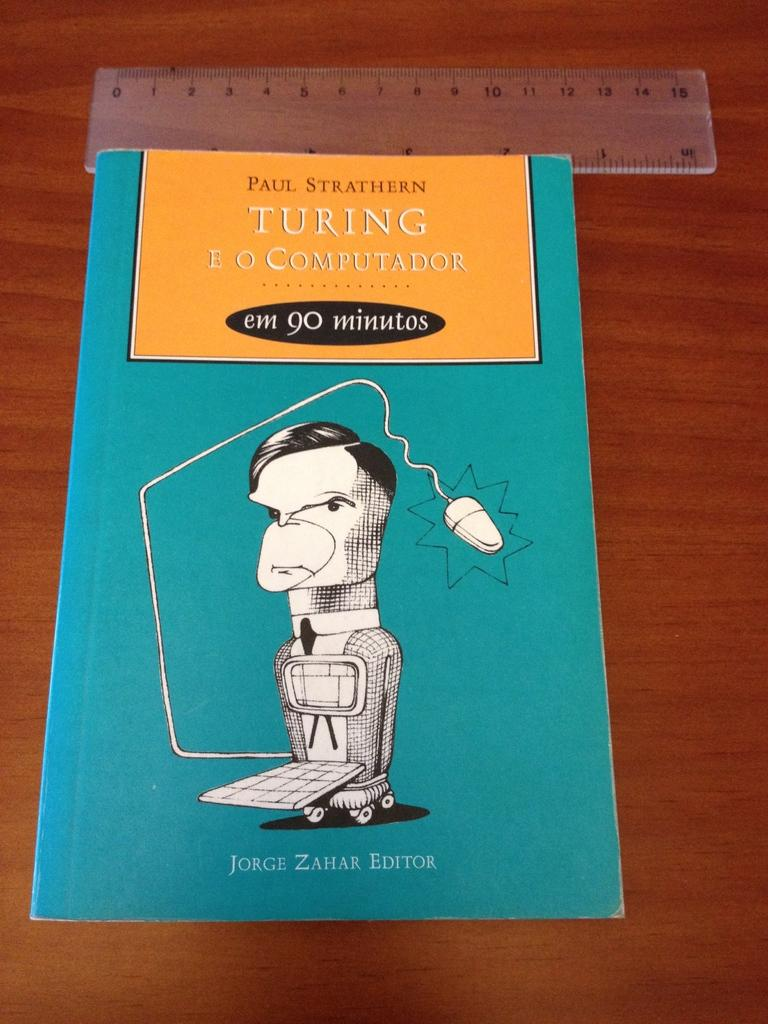book: (34, 156, 624, 916)
